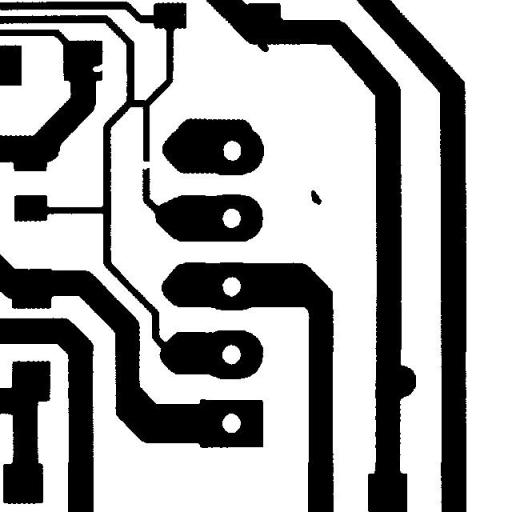copper: (303, 182, 329, 212)
mousebite: (85, 56, 113, 79)
open: (132, 153, 162, 177)
short: (118, 92, 154, 114)
spur: (250, 33, 276, 59)
